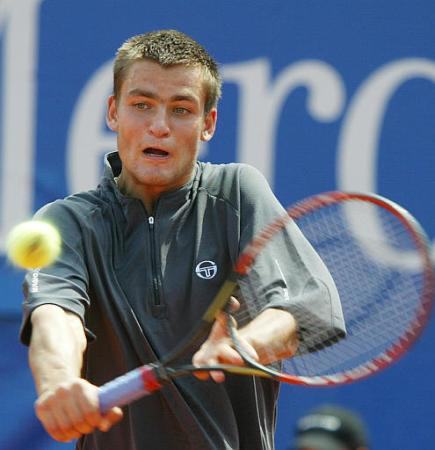Face: (112, 64, 203, 198)
